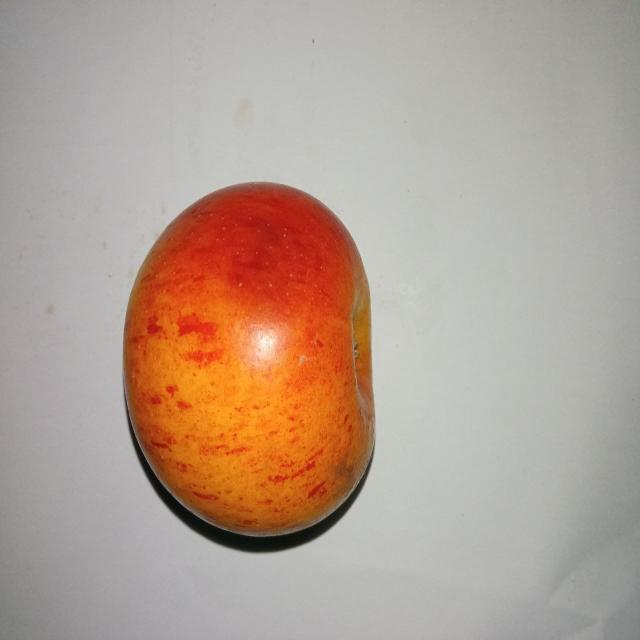fresh_apple: (121, 181, 375, 538)
